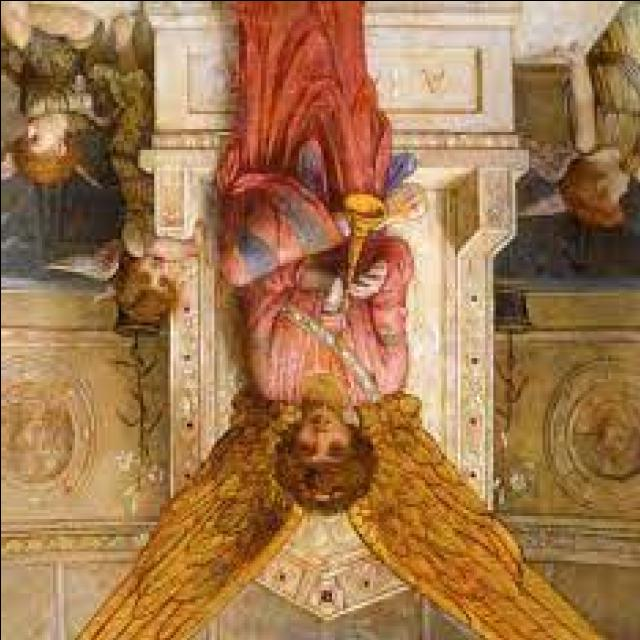angel: (173, 1, 503, 640)
